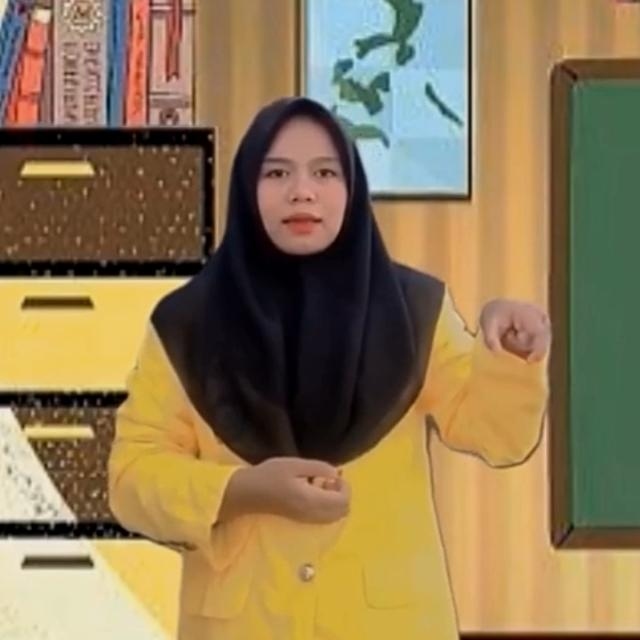Q: (471, 294, 552, 368)
